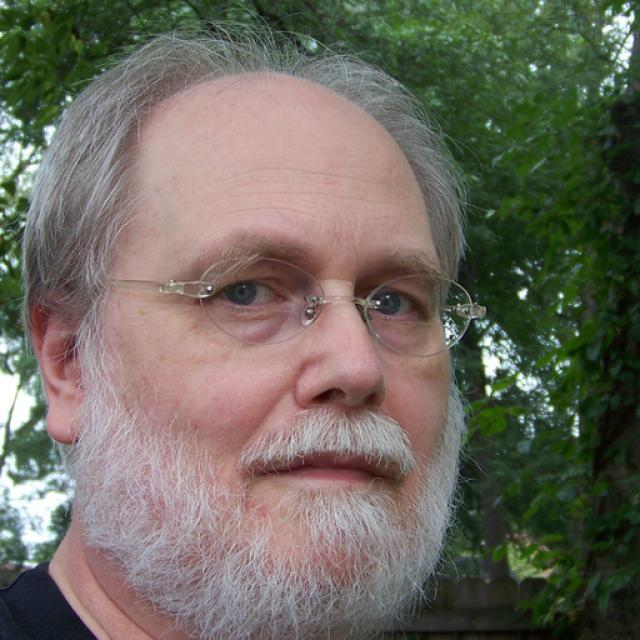neutral: (97, 103, 455, 626)
